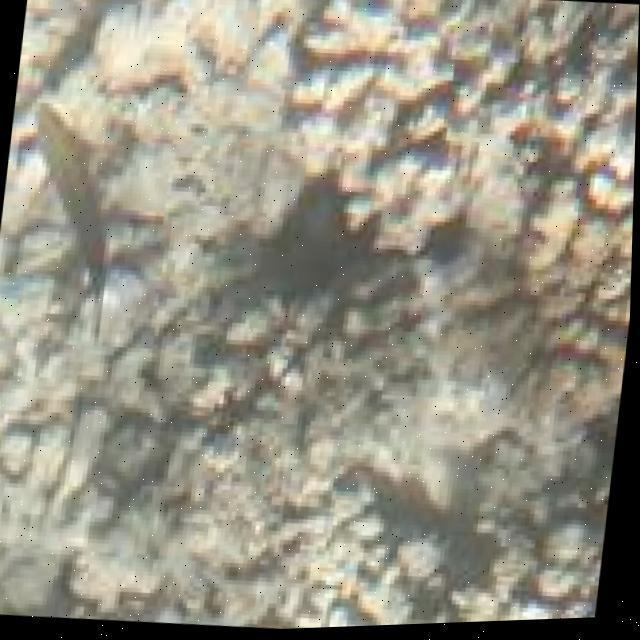Bleached Coral: (294, 0, 640, 238)
